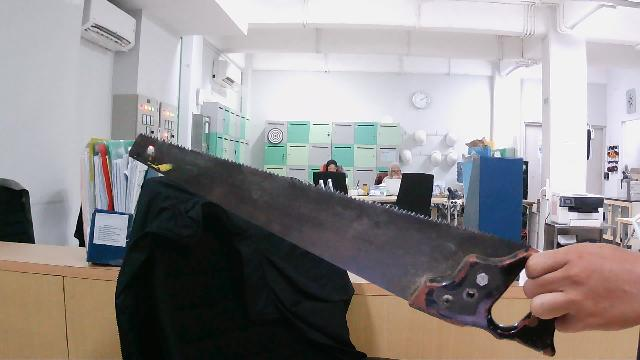gergaji_kayu: (123, 126, 567, 360)
